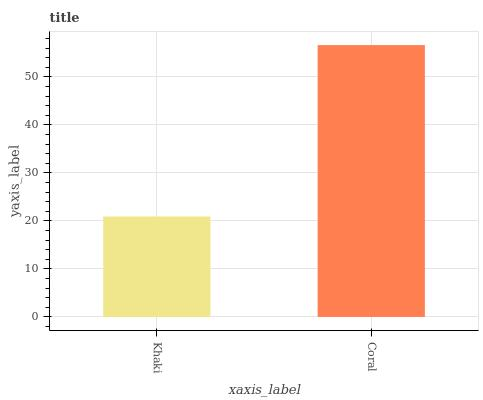axis: (39, 30, 58, 329)
label: (146, 338, 167, 378), (364, 339, 381, 377)
rectangle: (318, 44, 426, 318), (104, 216, 211, 316)
title: (45, 5, 87, 28)
